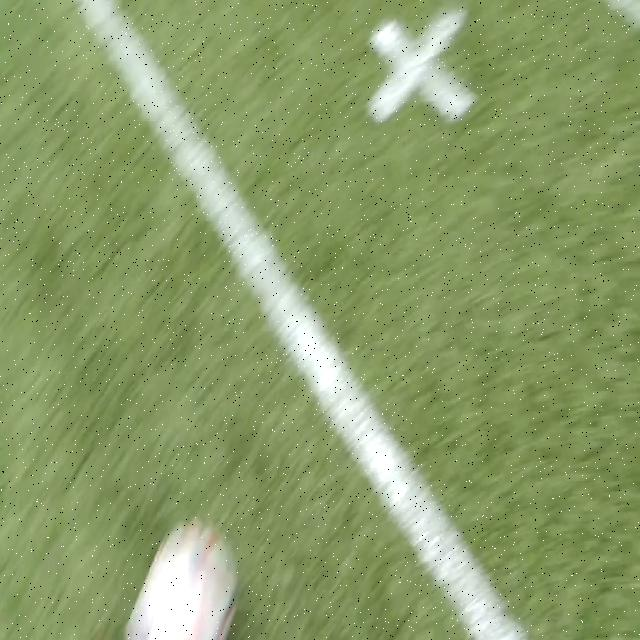ball: (130, 516, 238, 640)
